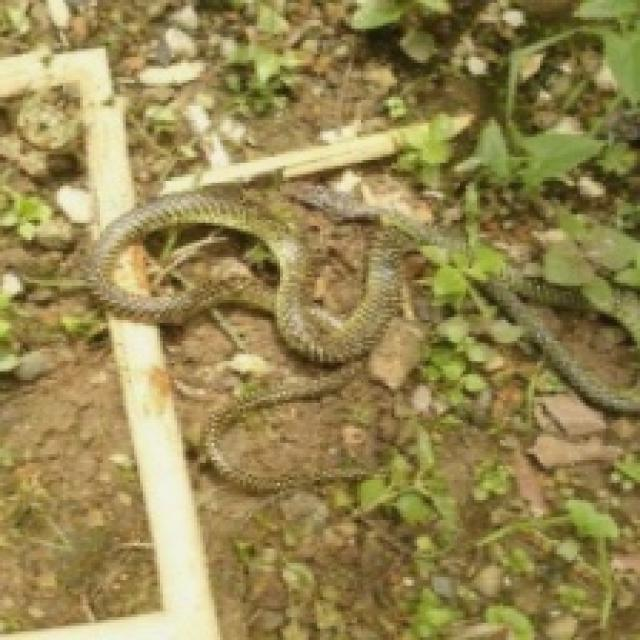paradise tree snake: (91, 186, 426, 489), (457, 269, 637, 414), (117, 226, 277, 294)
